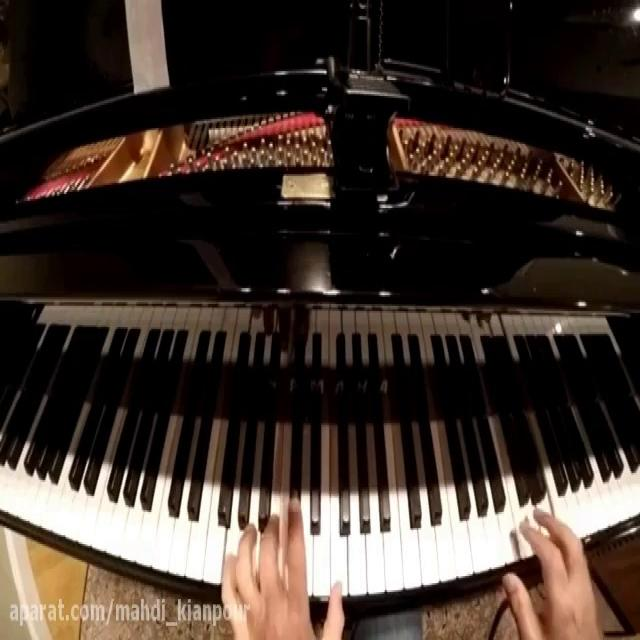Piano: (4, 377, 640, 591)
